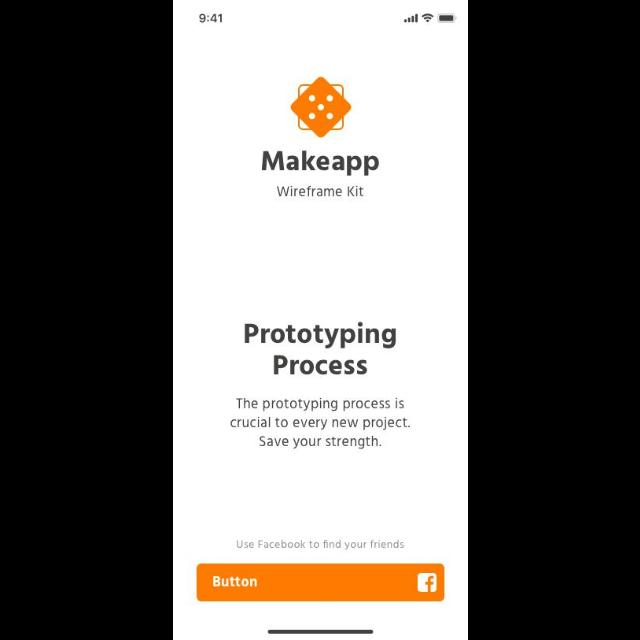image: (290, 77, 352, 139)
text: (228, 398, 410, 450), (243, 322, 395, 376), (260, 149, 380, 177), (235, 540, 403, 550), (276, 185, 364, 199)
textbutton: (196, 564, 444, 602)
uppertaskbar: (199, 13, 457, 24)
